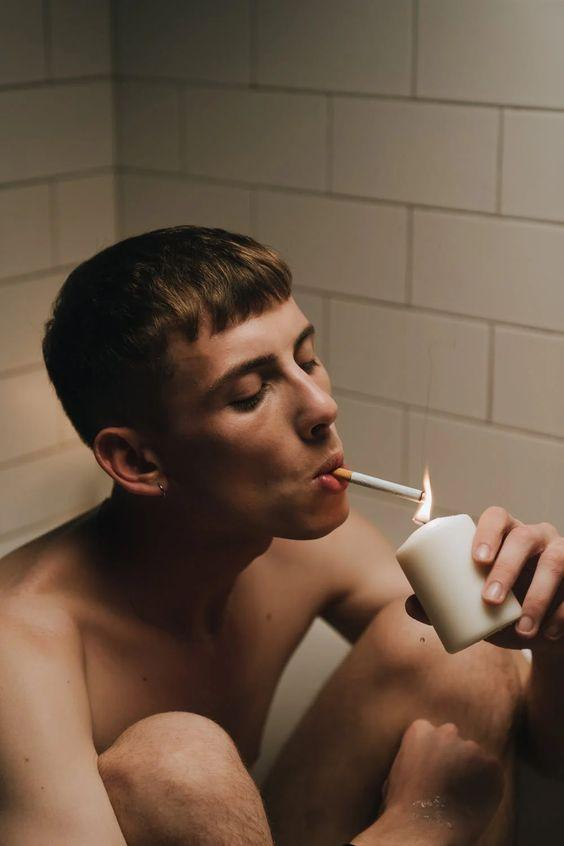cigarette: (330, 467, 428, 504)
